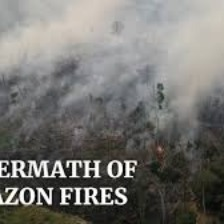incendio: (1, 55, 65, 114), (59, 88, 125, 143), (147, 98, 191, 150)
